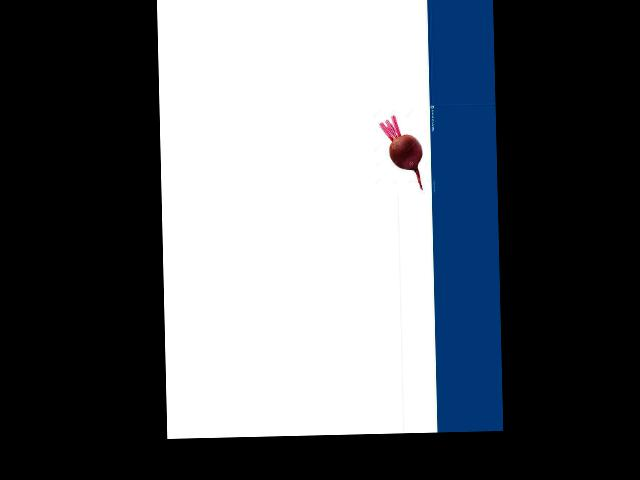beet: (379, 115, 422, 190)
